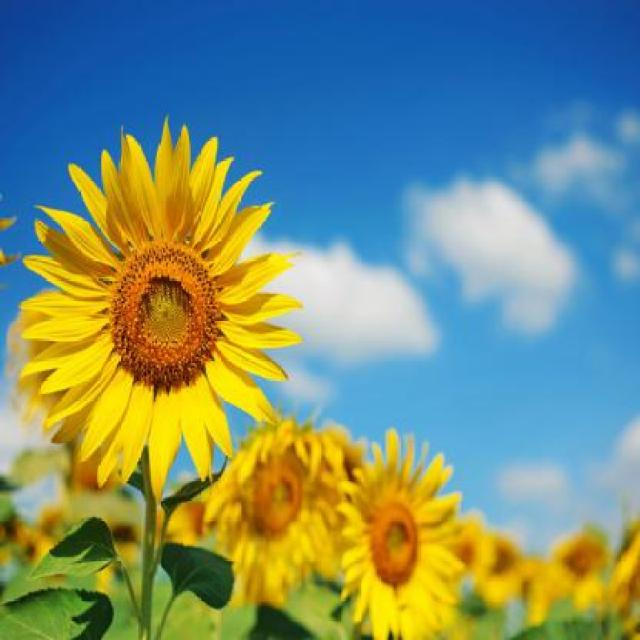sunflower: (30, 98, 296, 507), (350, 431, 474, 640), (213, 418, 353, 590)
